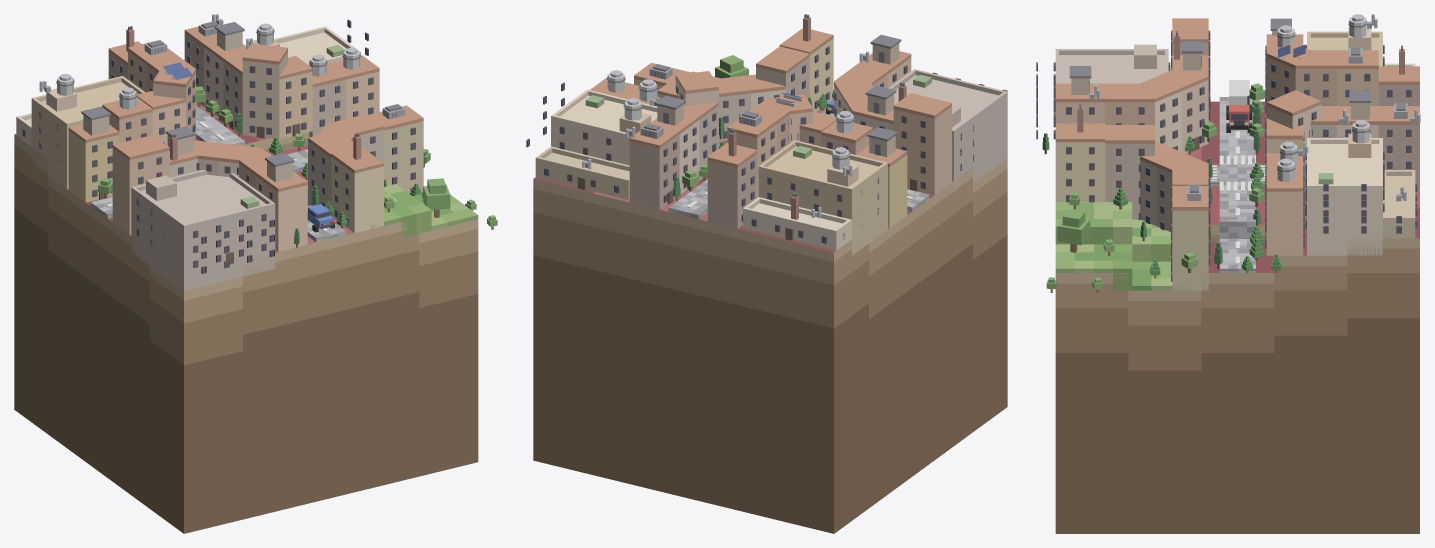
Rendered from block_15_permeable_20.glb.
3 views of the same model, side by side, from view 1: azimuth 30°, elevation 25°; view 2: azimuth 150°, elevation 25°; view 3: azimuth 270°, elevation 25° (orthographic). The views are drawn at different scales.
Visible parts, largest first — view 1: Patch_MidRight_b16_PP, Cerda_MidRight_b16_PP, Insets_MidRight_b16_PP, CerdaRoofProps_MidRight_b16_PP, Green_MidRight_b16_PP, Roads_MidRight_b16_PP, Asset_Tree_Round.063_PP, Asset_Car.031_PP; view 2: Patch_MidRight_b16_PP, Cerda_MidRight_b16_PP, Insets_MidRight_b16_PP, CerdaRoofProps_MidRight_b16_PP, Roads_MidRight_b16_PP, Asset_Tree_Round.063_PP; view 3: Patch_MidRight_b16_PP, Cerda_MidRight_b16_PP, Insets_MidRight_b16_PP, Green_MidRight_b16_PP, CerdaRoofProps_MidRight_b16_PP, Roads_MidRight_b16_PP, Asset_Truck.008_PP, Asset_Tree_Round.063_PP, Zebra_MidRight_b16_PP.
Boxes of the visible parts, bbox=[...] form: Patch_MidRight_b16_PP: bbox=[14, 102, 478, 533]; Cerda_MidRight_b16_PP: bbox=[68, 26, 423, 251]; Insets_MidRight_b16_PP: bbox=[16, 19, 368, 290]; CerdaRoofProps_MidRight_b16_PP: bbox=[39, 14, 404, 182]; Green_MidRight_b16_PP: bbox=[370, 184, 478, 237]; Roads_MidRight_b16_PP: bbox=[90, 105, 345, 242]; Asset_Tree_Round.063_PP: bbox=[423, 178, 450, 217]; Asset_Car.031_PP: bbox=[307, 204, 334, 232]; Patch_MidRight_b16_PP: bbox=[533, 107, 1007, 533]; Cerda_MidRight_b16_PP: bbox=[590, 28, 951, 228]; Insets_MidRight_b16_PP: bbox=[526, 69, 1007, 255]; CerdaRoofProps_MidRight_b16_PP: bbox=[582, 14, 906, 219]; Roads_MidRight_b16_PP: bbox=[668, 109, 929, 219]; Asset_Tree_Round.063_PP: bbox=[715, 55, 748, 78]; Patch_MidRight_b16_PP: bbox=[1055, 101, 1419, 533]; Cerda_MidRight_b16_PP: bbox=[1055, 18, 1419, 290]; Insets_MidRight_b16_PP: bbox=[1036, 27, 1417, 255]; Green_MidRight_b16_PP: bbox=[1055, 202, 1189, 290]; CerdaRoofProps_MidRight_b16_PP: bbox=[1069, 14, 1420, 201]; Roads_MidRight_b16_PP: bbox=[1210, 97, 1264, 272]; Asset_Truck.008_PP: bbox=[1226, 80, 1252, 132]; Asset_Tree_Round.063_PP: bbox=[1057, 209, 1090, 252]; Zebra_MidRight_b16_PP: bbox=[1210, 155, 1265, 191].
Bounding box in the file's own units: 10.04 × 11.2 × 10.01.
